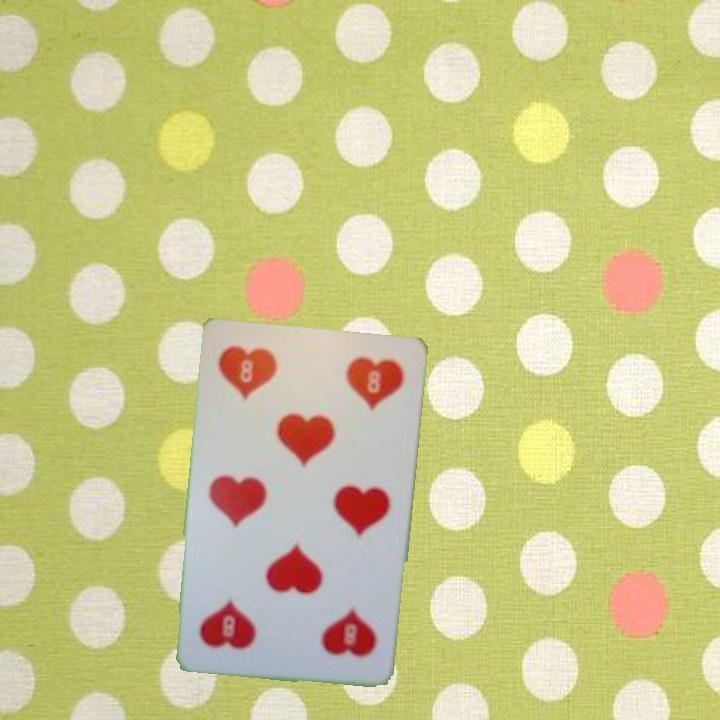h_8.png: (210, 335, 317, 430), (281, 579, 388, 673)
